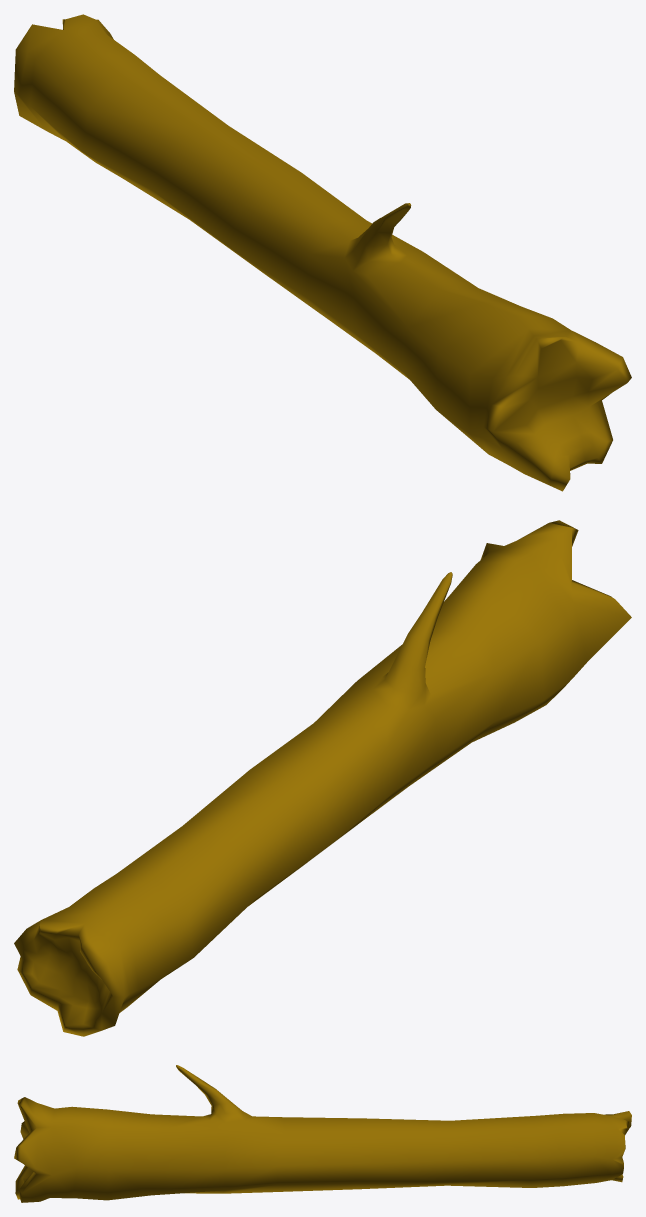
The model's file is log_01.fbx.
The picture shows the model from 3 angles, top to bottom: view 1: azimuth 30°, elevation 25°; view 2: azimuth 150°, elevation 25°; view 3: azimuth 270°, elevation 25°; orthographic projection. The views are drawn at different scales.
Visible parts, largest first — view 1: log_REN; view 2: log_REN; view 3: log_REN.
Boxes of the visible parts, x1=… form: log_REN: x1=14, y1=14, x2=631, y2=491; log_REN: x1=14, y1=520, x2=631, y2=1036; log_REN: x1=14, y1=1065, x2=631, y2=1202.
Bounding box in the file's own units: 80.99 × 106 × 471.
